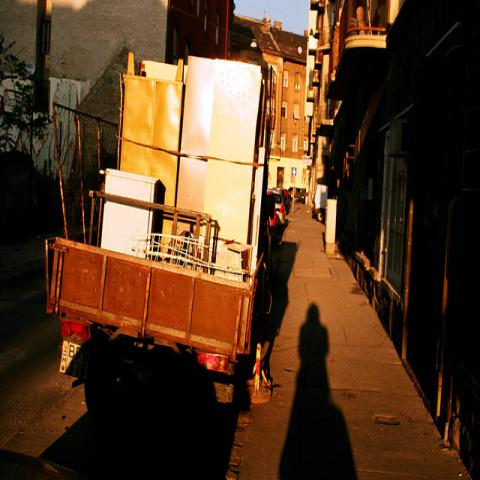car: (263, 193, 279, 239), (312, 184, 326, 224), (274, 193, 285, 225), (288, 187, 306, 202), (282, 190, 292, 216)
truck: (46, 46, 278, 415)
